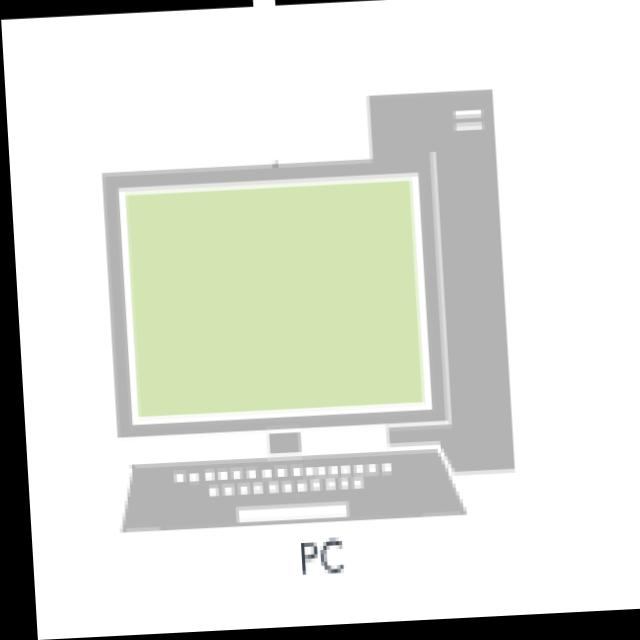Client: (17, 4, 591, 545)
